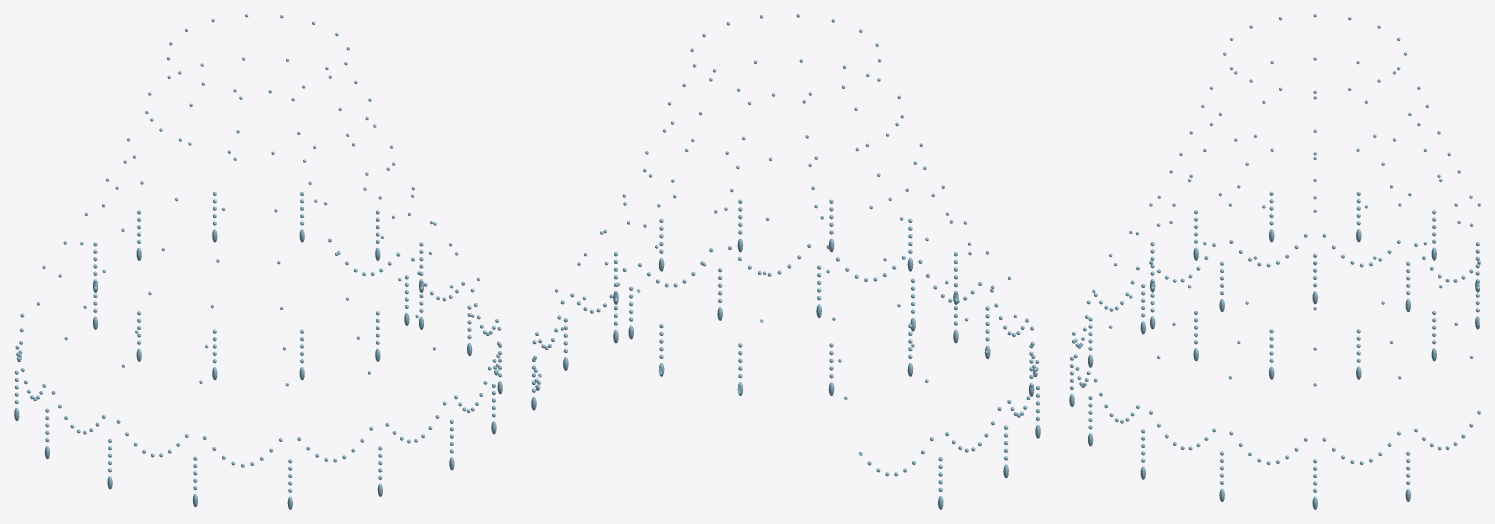
The model's file is KRM_STATIC_077.fbx.
3 renders of one model, left to right at view 1: azimuth 30°, elevation 25°; view 2: azimuth 150°, elevation 25°; view 3: azimuth 270°, elevation 25°, orthographic. The views are drawn at different scales.
Parts seen in each view (by area): view 1: KRM_STATIC_077; view 2: KRM_STATIC_077; view 3: KRM_STATIC_077.
Boxes of the visible parts, x1,y1,x2,y2 form: KRM_STATIC_077: [14, 14, 502, 509]; KRM_STATIC_077: [531, 14, 1040, 509]; KRM_STATIC_077: [1069, 14, 1480, 509].
Size of the model in its own units: 394 by 314 by 330.
Materials: 1 (1 with a texture image).
